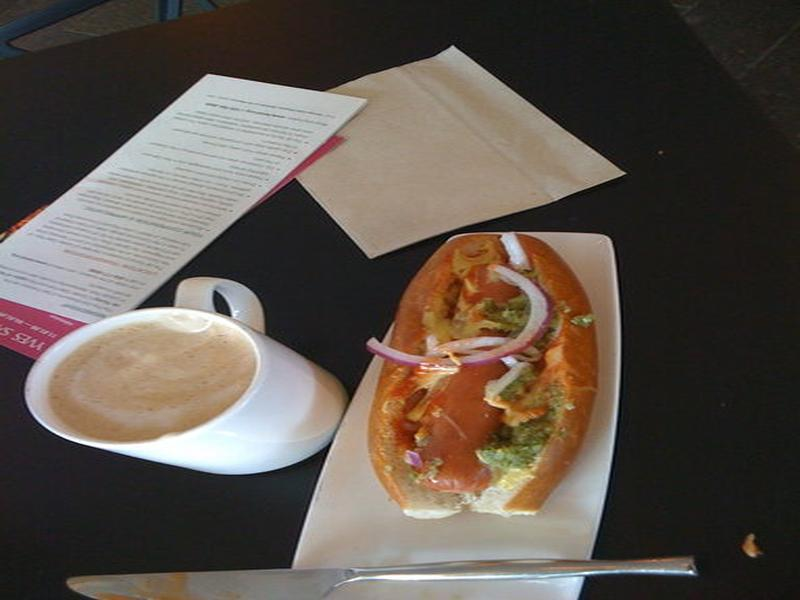hot_dog: (348, 188, 641, 558)
